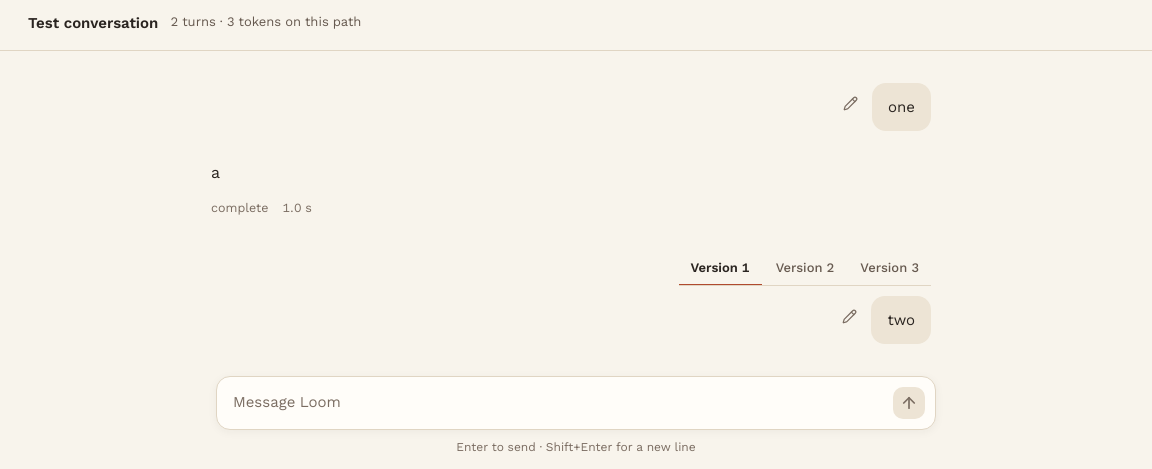
Test: version tabs mark the current branch and switch through the API
What coordinates should you click on to do the following:
click the button "Version 2"
I would click on:
 (805, 269)
Its box is [764,252,846,286].
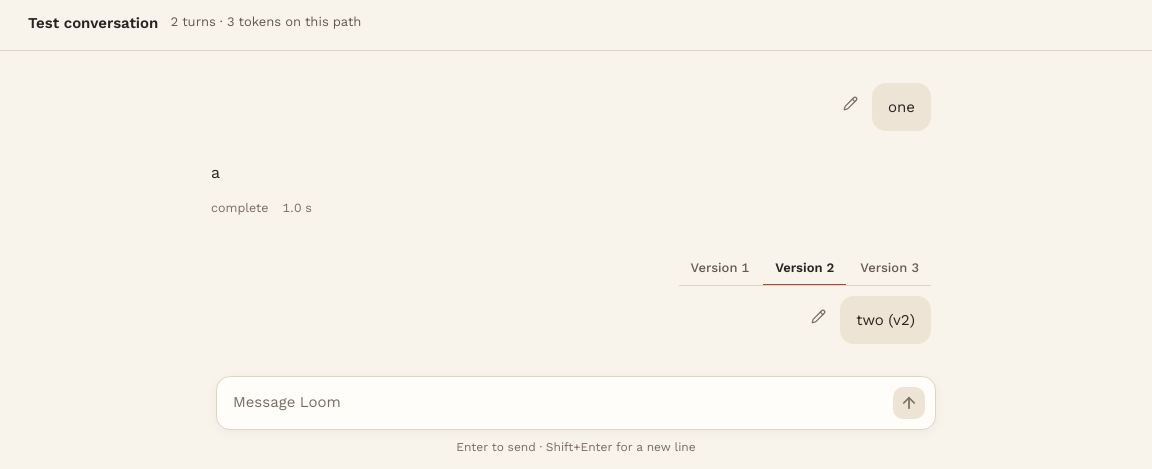
Expected: the text "two (v2)" is shown, [840,296,931,344]
